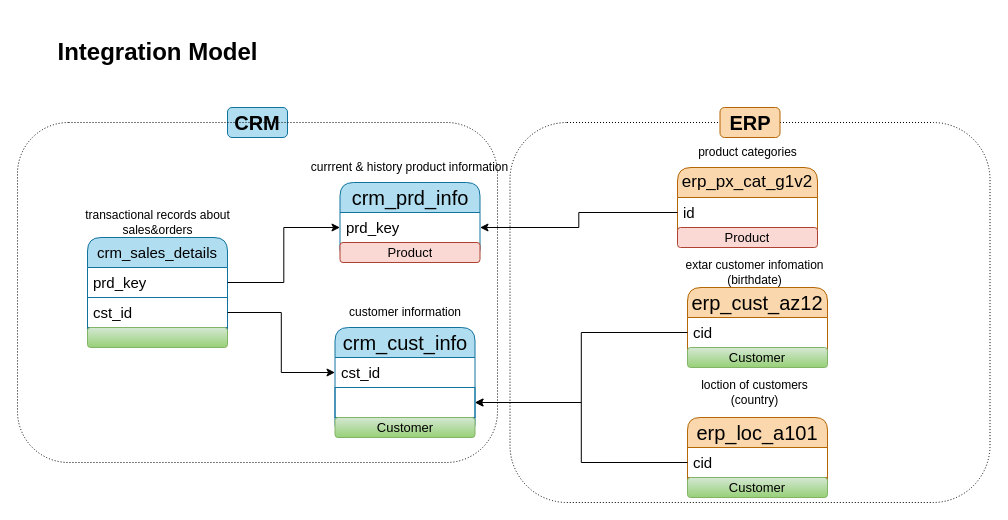
Some shapes in this 1008 by 520 pixel diagram are drawn without their labels. The centre of each missing label's shape, as x and y in pixels:
"cst_key" belongs at (404,402).
"Sales" belongs at (157,337).
